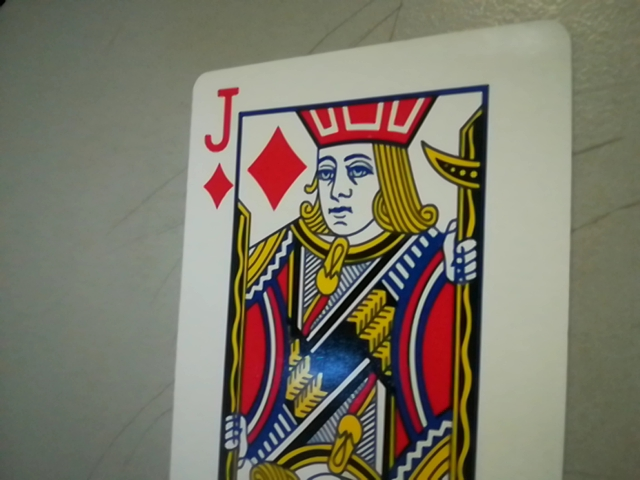fk j: (190, 83, 242, 211)
